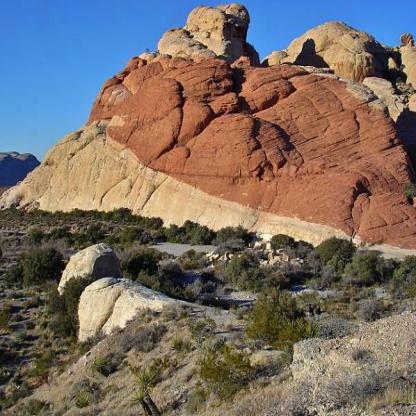Sedimentary_Sandstone: (312, 92, 408, 206), (188, 106, 298, 189), (273, 14, 393, 69), (108, 74, 184, 150), (58, 135, 139, 204), (179, 4, 247, 52)
